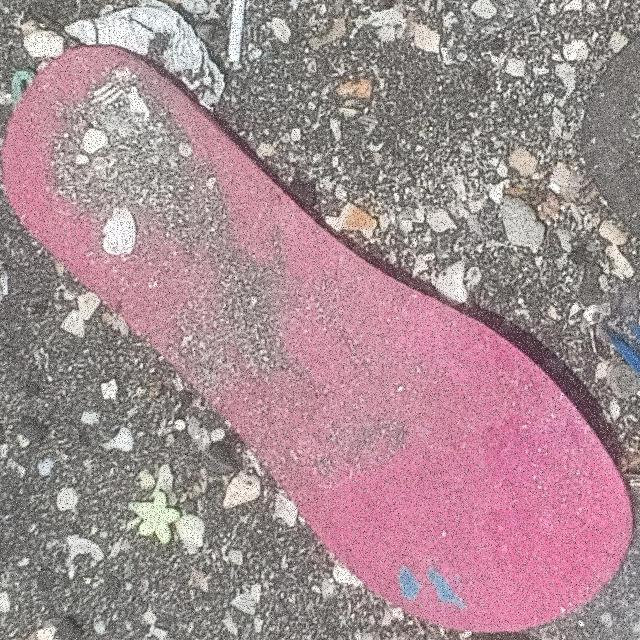rubber_waste: (1, 45, 637, 633)
